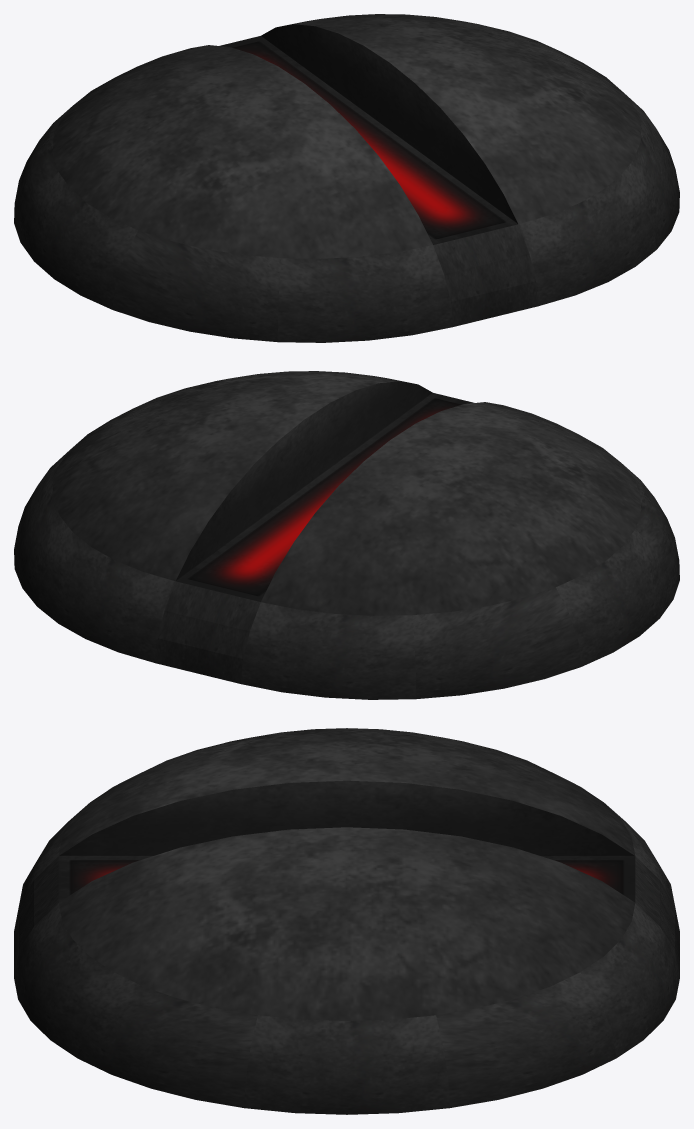
File: traps_laser.FBX
The picture shows the model from 3 angles, top to bottom: view 1: azimuth 30°, elevation 25°; view 2: azimuth 150°, elevation 25°; view 3: azimuth 270°, elevation 25°; orthographic projection. The views are drawn at different scales.
Parts seen in each view (by area): view 1: Sphere002; view 2: Sphere002; view 3: Sphere002.
Part boxes in pixels (x1,y1,x2,y2): Sphere002: [14, 14, 679, 342]; Sphere002: [14, 371, 679, 699]; Sphere002: [14, 728, 679, 1114].
Bounding box in the file's own units: 11.49 × 2.53 × 10.11.
